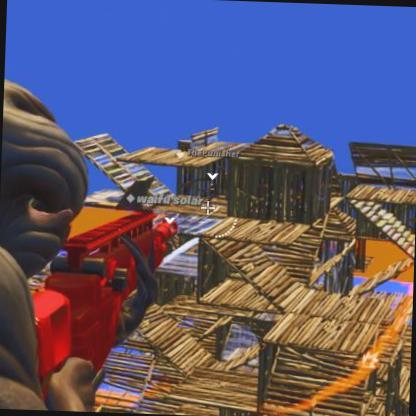person: (208, 182, 217, 204)
